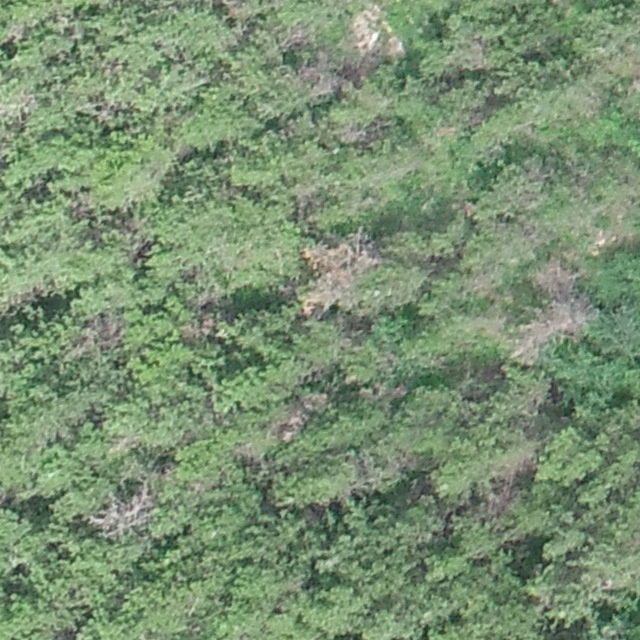unhealthy: (298, 232, 382, 315), (512, 299, 588, 364), (478, 446, 537, 518), (86, 488, 157, 539), (268, 393, 327, 442), (63, 313, 120, 362), (296, 54, 339, 98), (530, 258, 578, 297), (2, 88, 38, 123), (292, 183, 323, 220), (335, 122, 380, 146), (179, 315, 217, 343), (469, 268, 503, 299), (278, 24, 313, 52), (343, 54, 377, 81), (232, 440, 264, 467), (190, 284, 225, 307), (216, 0, 252, 20), (2, 19, 27, 45)
